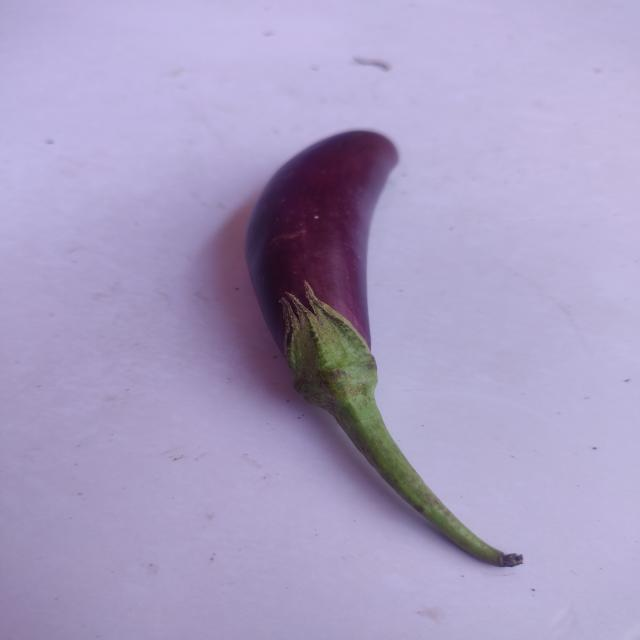Brinjal: (228, 115, 551, 578)
